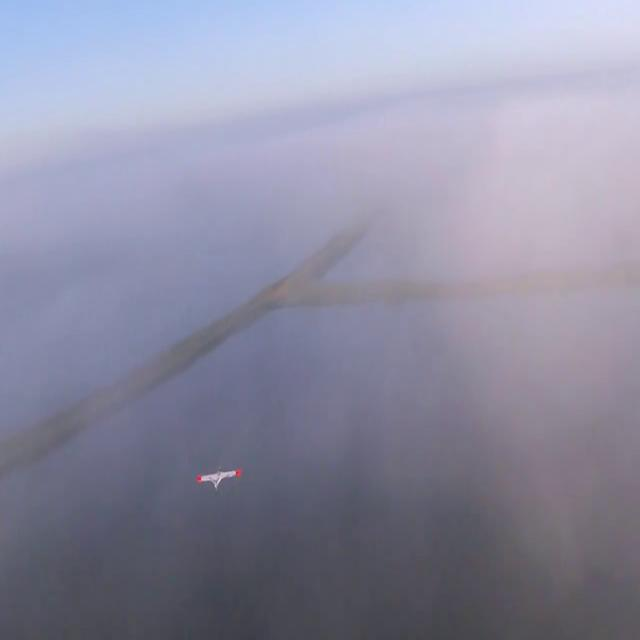iha: (194, 463, 243, 495)
